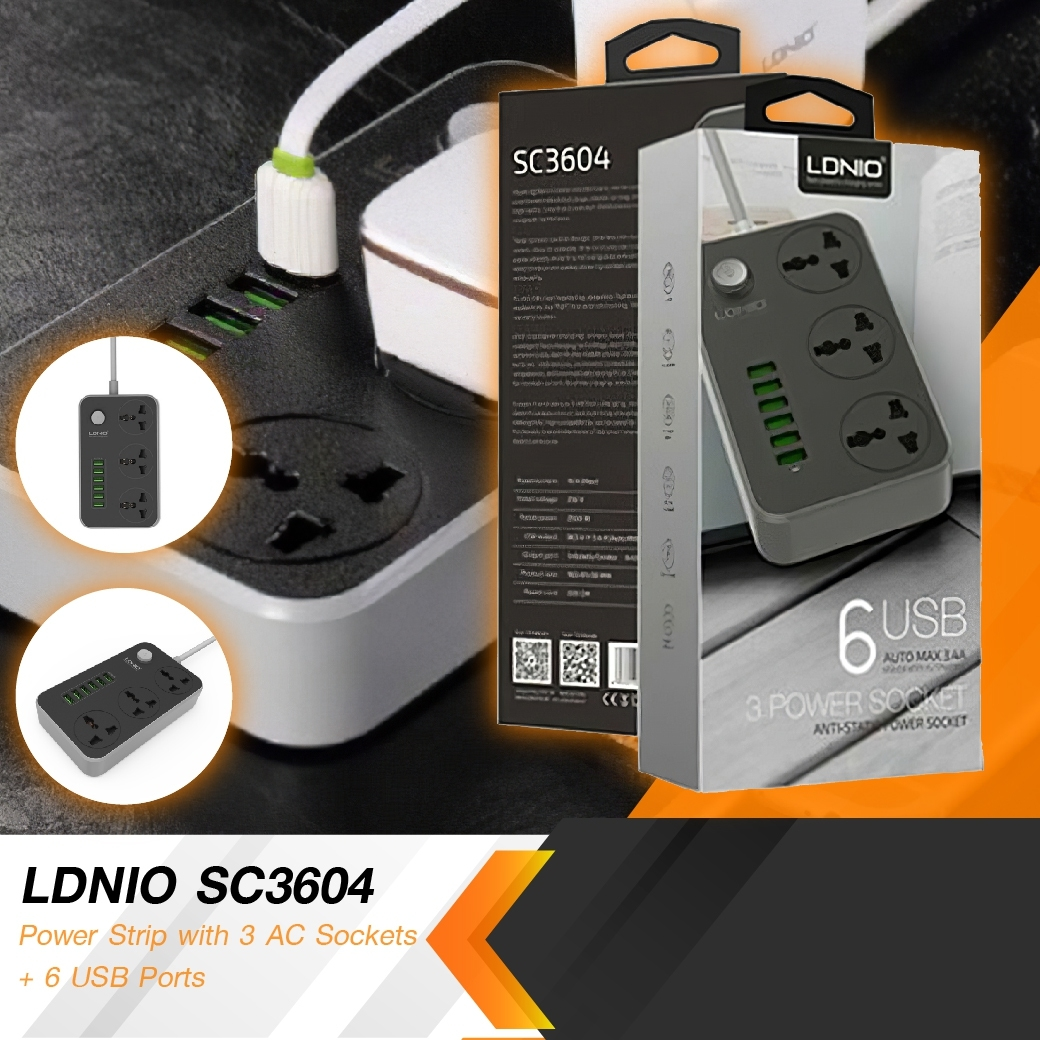Three_eye_plug: (693, 218, 968, 567)
